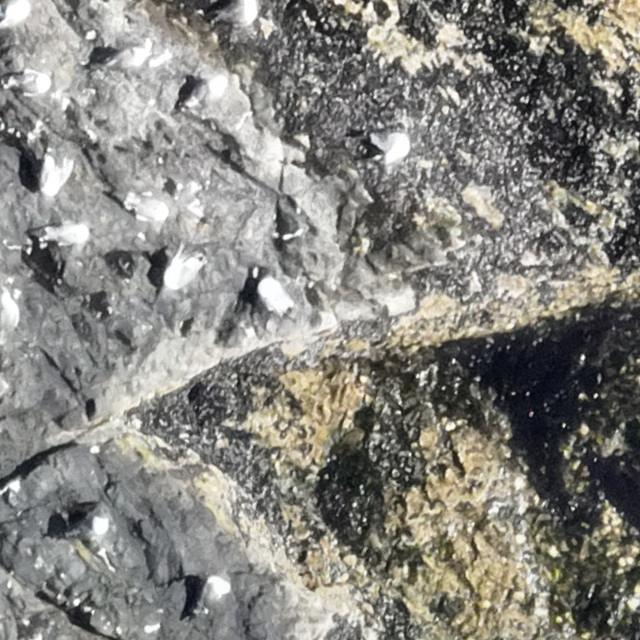umineko: (203, 2, 259, 29), (371, 130, 409, 168), (38, 154, 73, 193), (198, 576, 230, 616), (1, 70, 53, 94), (187, 78, 227, 109), (104, 45, 146, 74), (31, 222, 88, 243), (256, 281, 292, 314), (166, 258, 202, 290), (63, 514, 109, 539), (126, 196, 170, 222)
